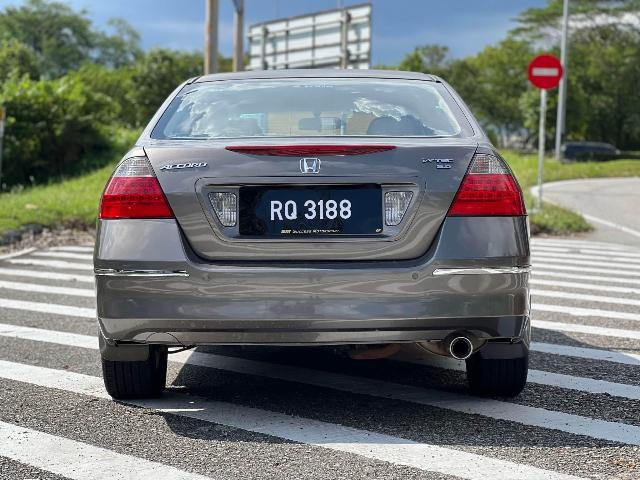License_Plate: (246, 189, 381, 235)
car: (98, 69, 536, 391)
